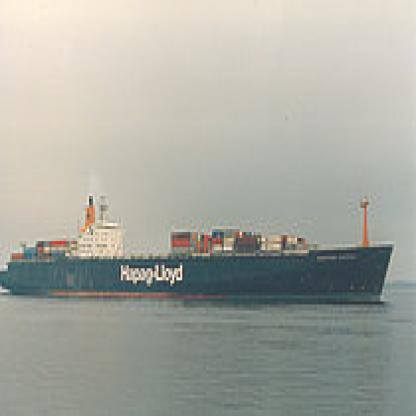Tanker: (0, 187, 404, 316)
